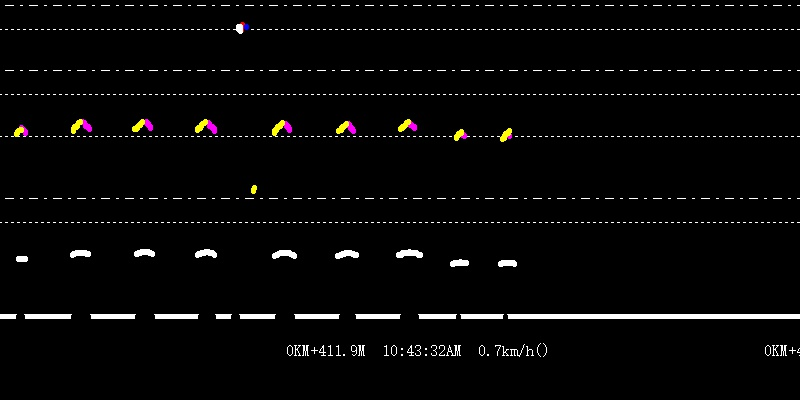face_2: (233, 17, 249, 35)
y_p: (64, 107, 424, 270)
